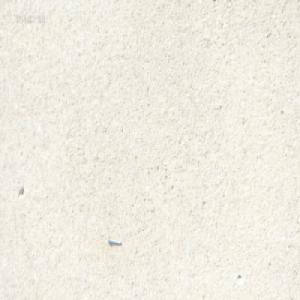Nail: (107, 236, 122, 246)
